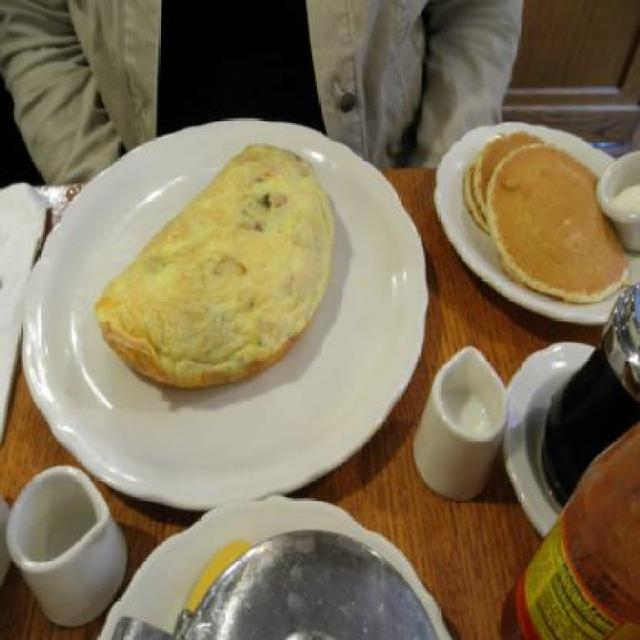ice cream: (607, 171, 639, 224)
omelette: (89, 142, 337, 392)
pancakes: (455, 120, 631, 308)
